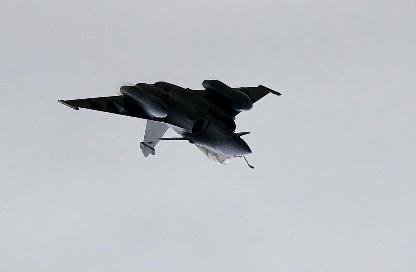RQ4: (58, 79, 282, 168)
